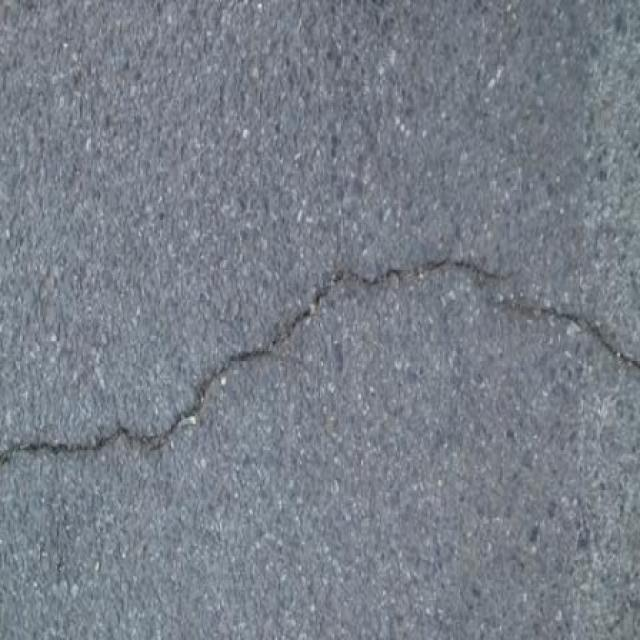Diagonal Crack: (1, 248, 640, 468)
